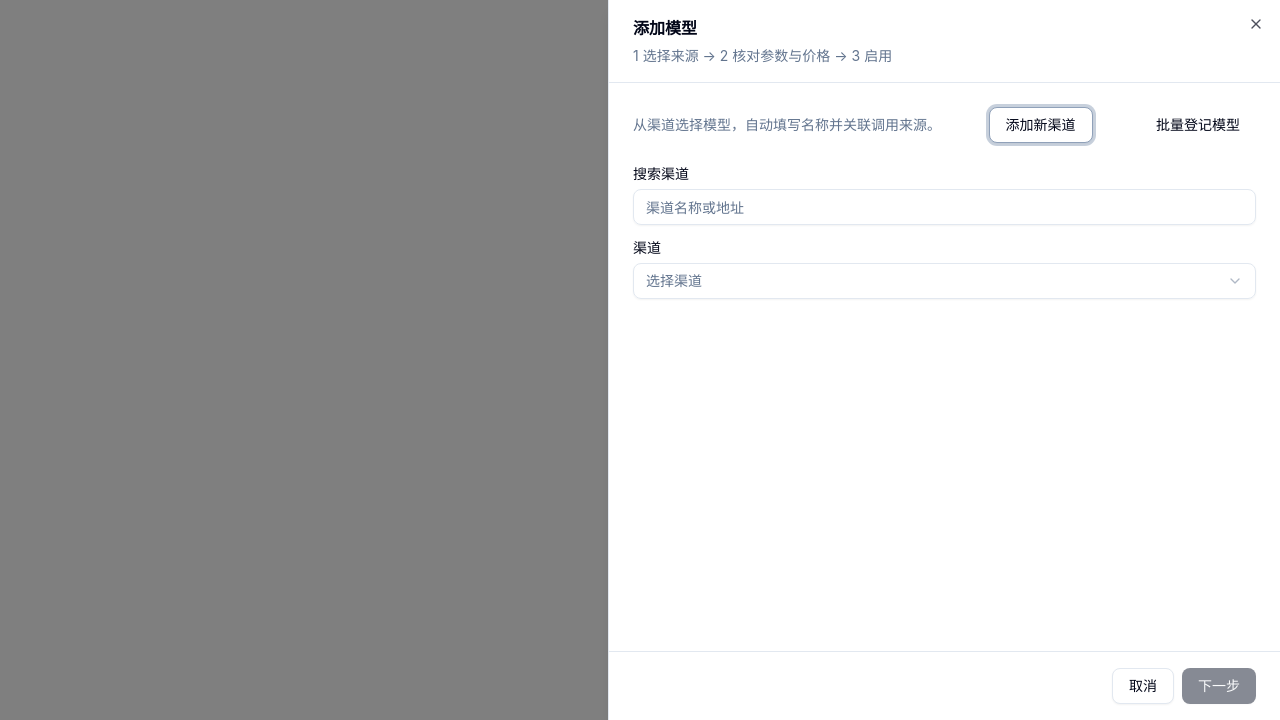
Scenario: preserves the chosen source on metadata failure and allows a read-only retry
The width and height of the screenshot is (1280, 720).
Check: the dialog "添加模型" is shown, box x1=608 y1=0 x2=1279 y2=719
Click the dropdown labelled "渠道".
click(674, 280)  # box x1=633 y1=263 x2=1256 y2=299
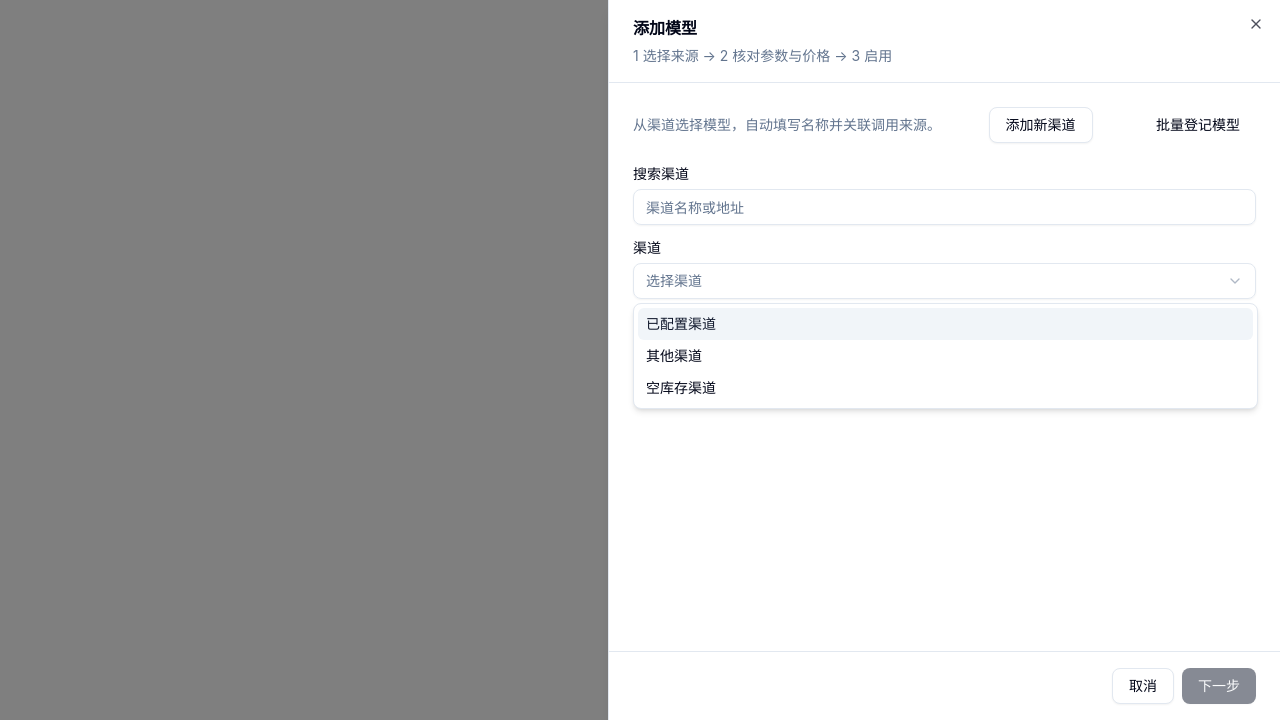
Click the option "已配置渠道".
click(681, 324)  # box x1=638 y1=308 x2=1253 y2=340
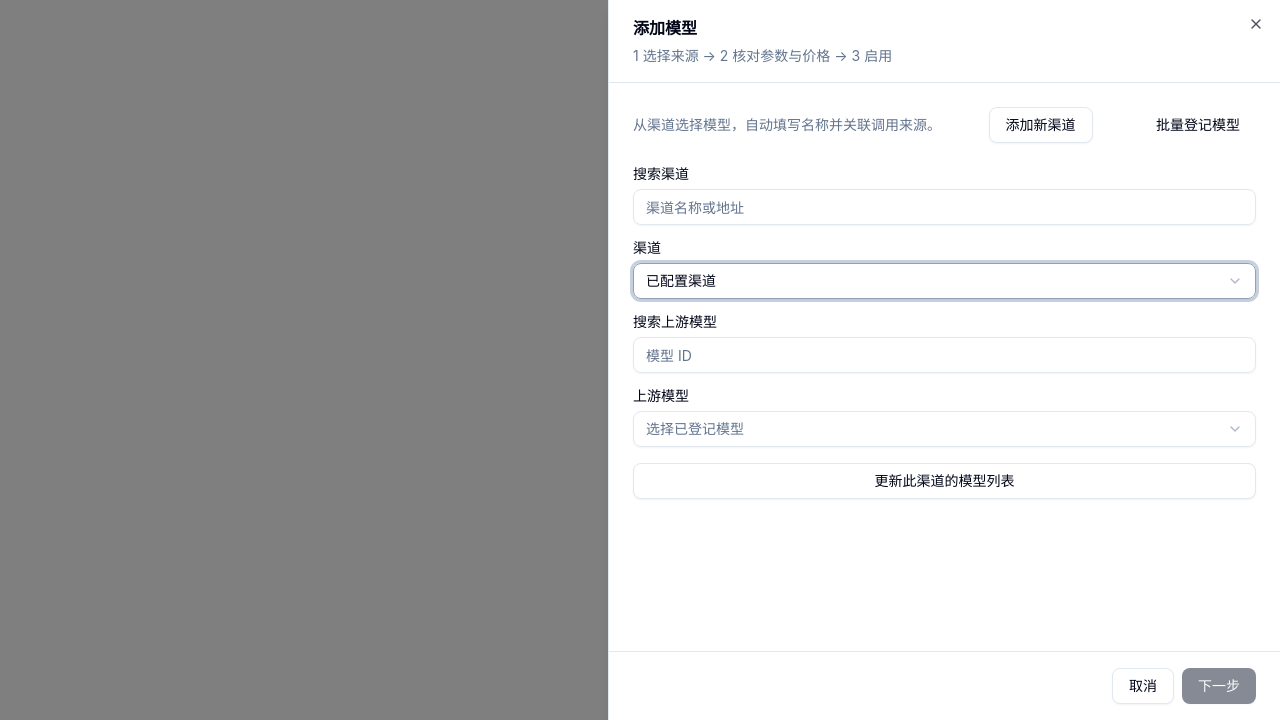
Click the dropdown named "上游模型".
click(695, 428)  # box x1=633 y1=411 x2=1256 y2=447
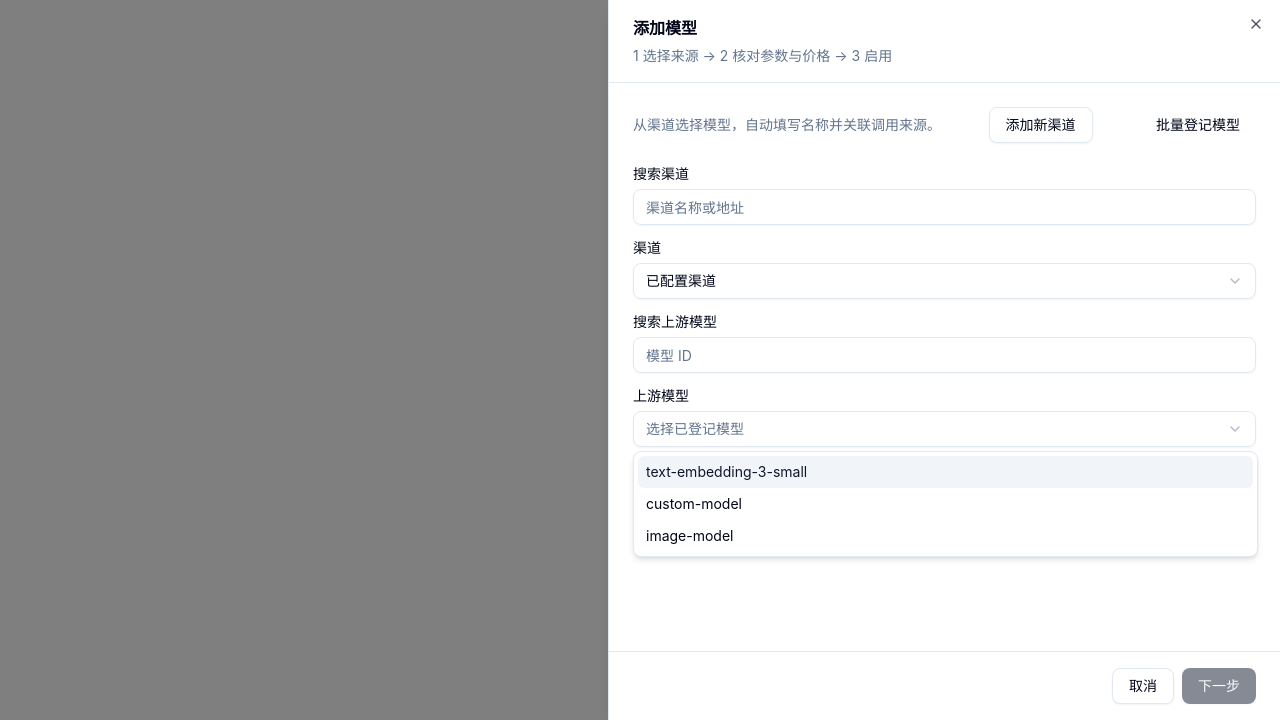
Click the option "text-embedding-3-small".
click(727, 472)  # box x1=638 y1=456 x2=1253 y2=488
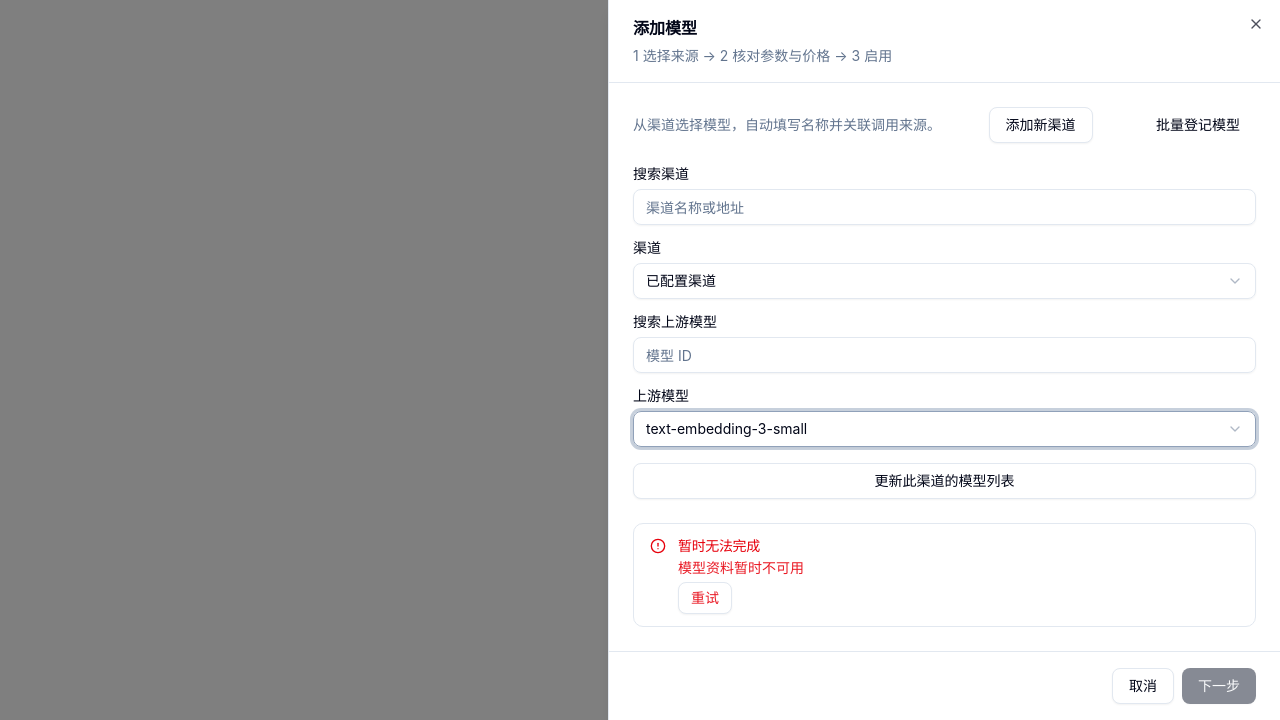
Check: the button "下一步" is disabled, box x1=1182 y1=668 x2=1256 y2=704
Check: the text "模型资料暂时不可用" is shown, box x1=678 y1=558 x2=804 y2=578
Click the button "重试".
click(705, 598)  # box x1=678 y1=582 x2=732 y2=614
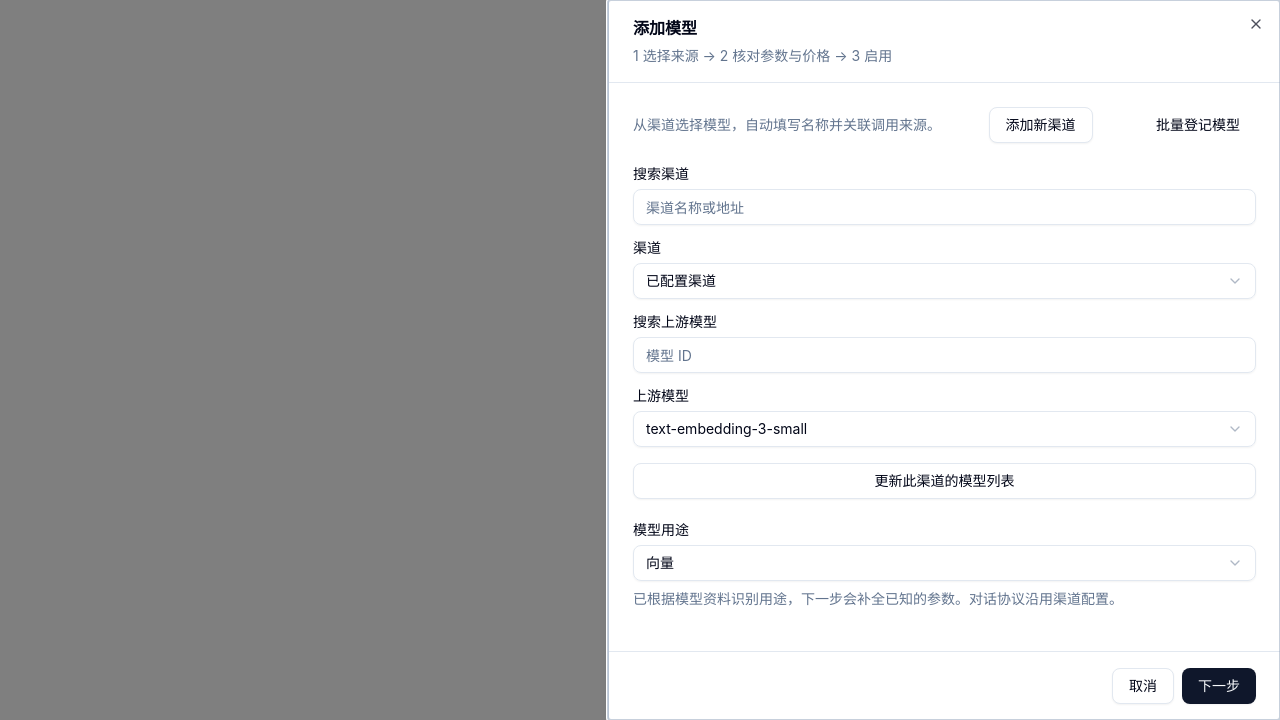
Check: the dropdown named "上游模型" reads "text-embedding-3-small", box x1=633 y1=411 x2=1256 y2=447
Check: the button "下一步" is enabled, box x1=1182 y1=668 x2=1256 y2=704
